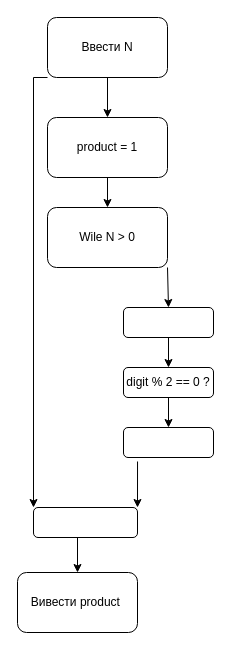
Some shapes in this 231 by 650 pixel diagram are drawn without their labels. The shapes that lost their labels are listed below. From the top down, each one's centre as x and y in pixels, then its label:
(x=168, y=322): digit = N % 10
(x=168, y=442): product *= digit
(x=85, y=522): N = N / 10
